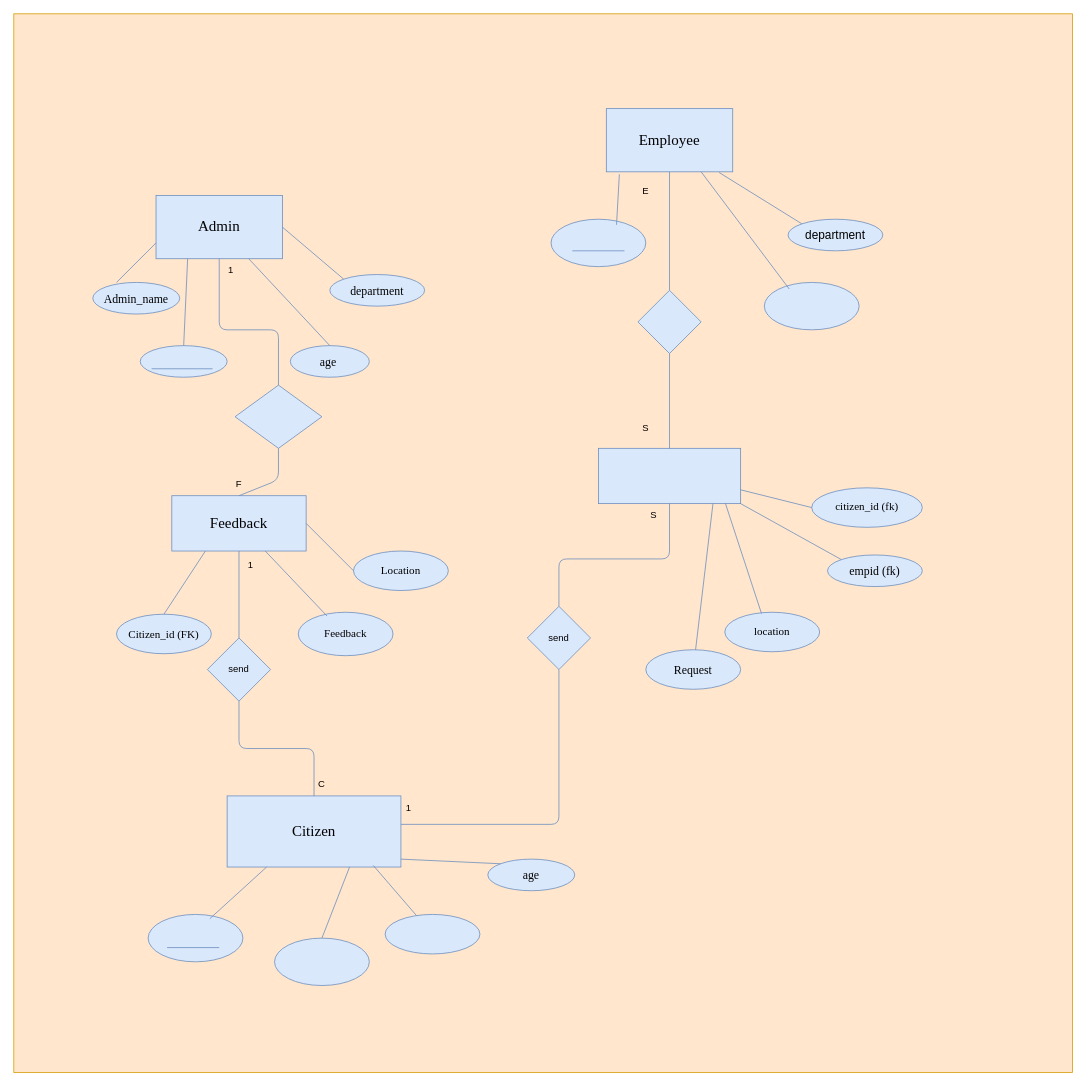
The diagram is 1086 pixels wide and 1086 high, and some of its shapes have lost their labels. The shapes that lost their labels are listed below. From the top down, each one's centre as x and y in pixels, then its label:
(x=598, y=242): empid
(x=669, y=322): assign
(x=811, y=306): empname
(x=183, y=361): Admin_id
(x=278, y=416): recieve
(x=669, y=476): Service request
(x=195, y=938): Citizen_id
(x=432, y=934): Address
(x=321, y=961): Citizen_name
